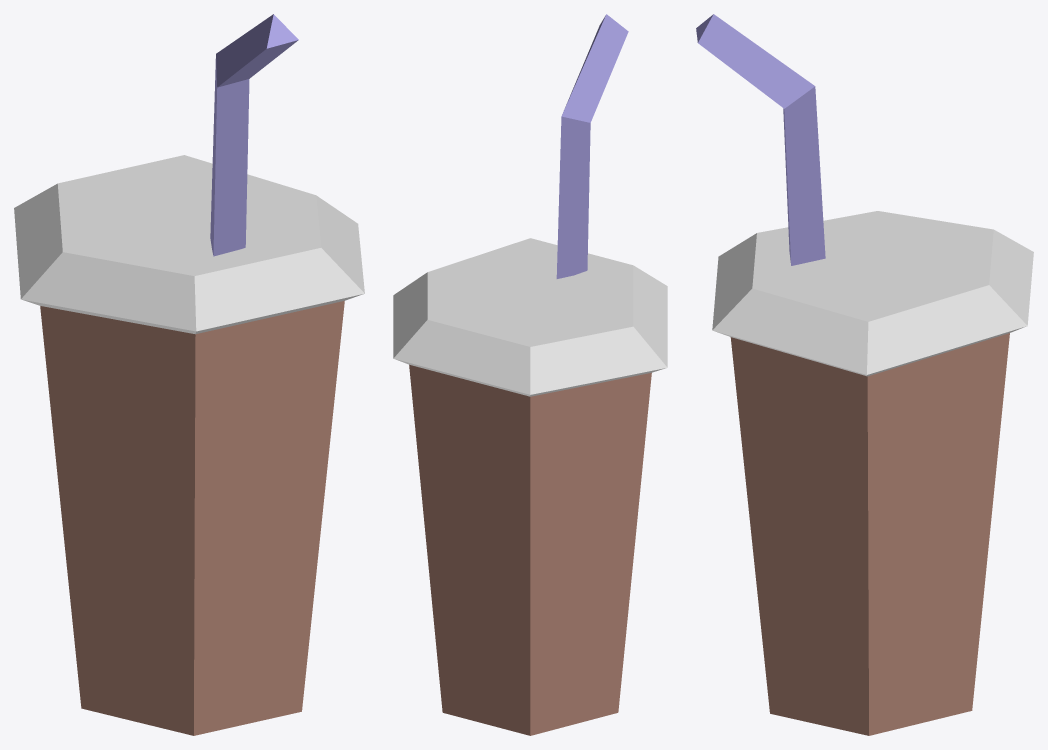
File: Soda_01.fbx
The picture shows the model from 3 angles, left to right: view 1: azimuth 30°, elevation 25°; view 2: azimuth 150°, elevation 25°; view 3: azimuth 270°, elevation 25°; orthographic projection. The views are drawn at different scales.
Visible parts, largest first — view 1: Soda; view 2: Soda; view 3: Soda.
Boxes of the visible parts, x1,y1,x2,y2 form: Soda: (14, 14, 364, 735); Soda: (393, 14, 667, 735); Soda: (696, 14, 1033, 735).
Bounding box in the file's own units: 2.56 × 5.43 × 2.47.
